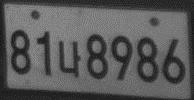1: (36, 29, 53, 78)
6: (161, 37, 186, 84)
8: (8, 28, 32, 75), (135, 35, 159, 82), (86, 33, 108, 79)
9: (110, 35, 133, 81)
나: (57, 39, 83, 78)
